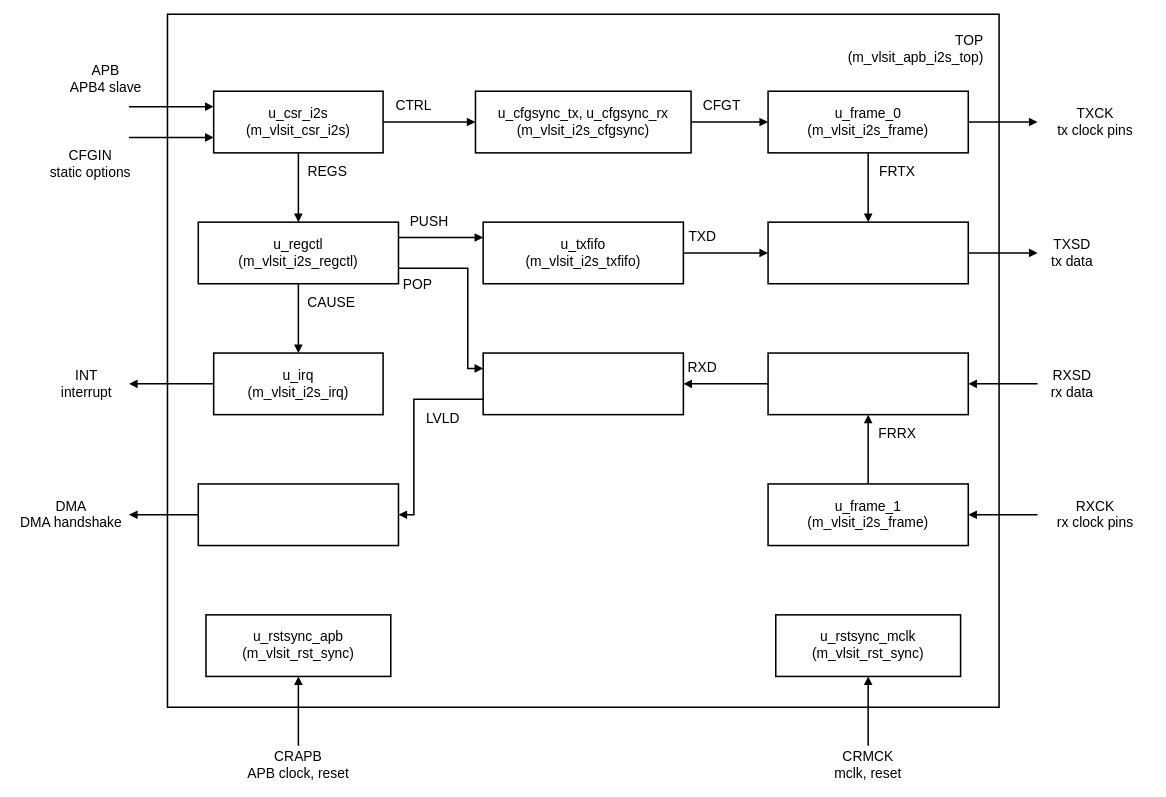
This 1166x797 diagram has some shape labels left out. Each missing label, with the centre of its shape:
u_dmahs_tx, u_dmahs_rx (m_vlsit_i2s_dmahs): point 298,514
u_rxdes (m_vlsit_i2s_rxdes): point 868,383
u_rxfifo (m_vlsit_i2s_rxfifo): point 583,383
u_txser (m_vlsit_i2s_txser): point 868,252
